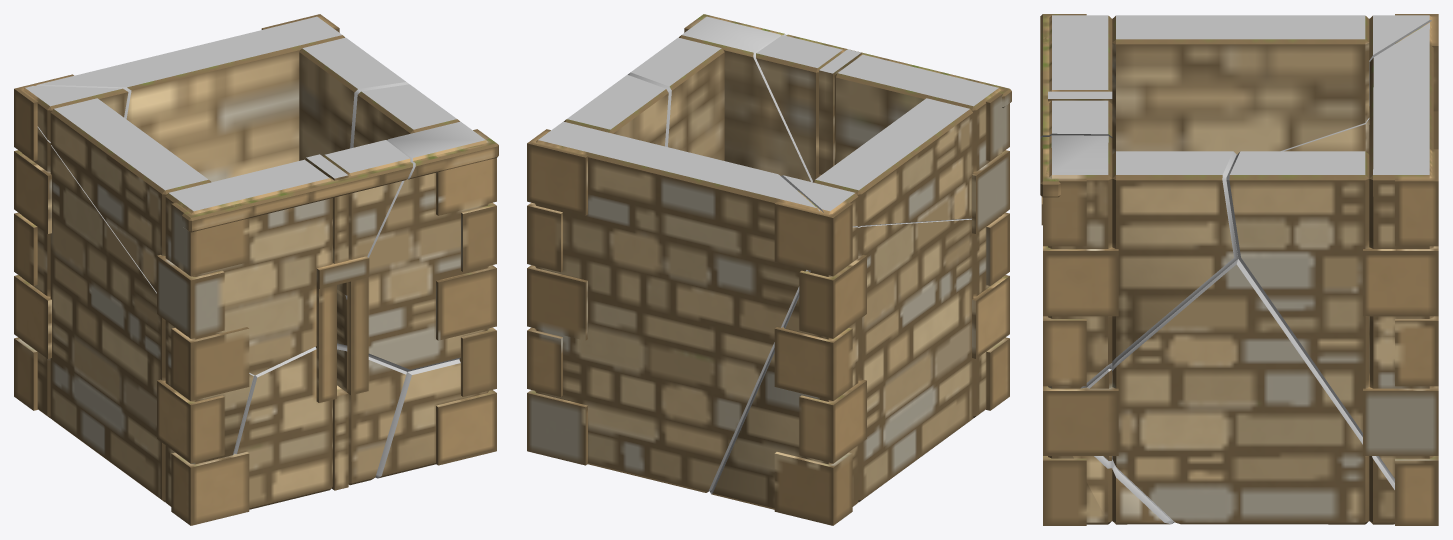
Rendered from Kit_Gate_Tower_Fractured.fbx.
The picture shows the model from 3 angles, left to right: view 1: azimuth 30°, elevation 25°; view 2: azimuth 150°, elevation 25°; view 3: azimuth 270°, elevation 25°; orthographic projection. The views are drawn at different scales.
Parts seen in each view (by area): view 1: Kit_Gate_Tower_frag_07, Kit_Gate_Tower_frag_04, Kit_Gate_Tower_frag_03, Kit_Gate_Tower_frag_02, Kit_Gate_Tower_frag_05, Kit_Gate_Tower_frag_06, Kit_Gate_Tower_frag_01; view 2: Kit_Gate_Tower_frag_02, Kit_Gate_Tower_frag_07, Kit_Gate_Tower_frag_04, Kit_Gate_Tower_frag_03; view 3: Kit_Gate_Tower_frag_02, Kit_Gate_Tower_frag_01, Kit_Gate_Tower_frag_04, Kit_Gate_Tower_frag_03, Kit_Gate_Tower_frag_06, Kit_Gate_Tower_frag_07.
Boxes of the visible parts, box(x1,y1,x2,y2) form: Kit_Gate_Tower_frag_07: box(14, 127, 254, 525); Kit_Gate_Tower_frag_04: box(23, 86, 412, 375); Kit_Gate_Tower_frag_03: box(337, 84, 498, 395); Kit_Gate_Tower_frag_02: box(14, 14, 408, 181); Kit_Gate_Tower_frag_05: box(234, 285, 406, 509); Kit_Gate_Tower_frag_06: box(375, 359, 496, 478); Kit_Gate_Tower_frag_01: box(459, 327, 496, 396); Kit_Gate_Tower_frag_02: box(527, 74, 852, 492); Kit_Gate_Tower_frag_07: box(710, 212, 1009, 525); Kit_Gate_Tower_frag_04: box(756, 34, 1011, 233); Kit_Gate_Tower_frag_03: box(628, 14, 812, 181); Kit_Gate_Tower_frag_02: box(1226, 14, 1438, 525); Kit_Gate_Tower_frag_01: box(1043, 259, 1394, 524); Kit_Gate_Tower_frag_04: box(1040, 14, 1432, 225); Kit_Gate_Tower_frag_03: box(1040, 135, 1238, 388); Kit_Gate_Tower_frag_06: box(1043, 456, 1174, 525); Kit_Gate_Tower_frag_07: box(1281, 111, 1438, 154).
Size of what is drawn, in the model's own units: 3.12 by 3 by 3.1.
